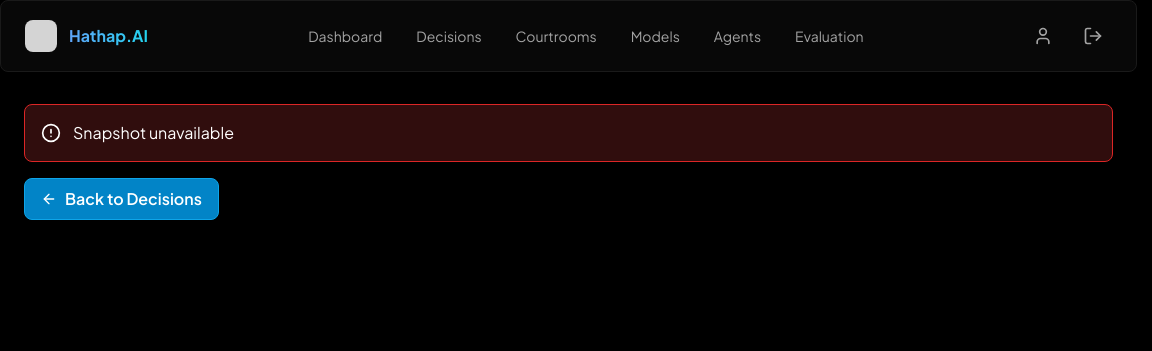
Scenario: App page-flow integration › shows an error state with back navigation when the decision snapshot fails to load
Expected: the text "Snapshot unavailable" is shown, [73,122,234,143]
Click the button "Back to Decisions".
click(121, 199)  # box [24,178,219,220]
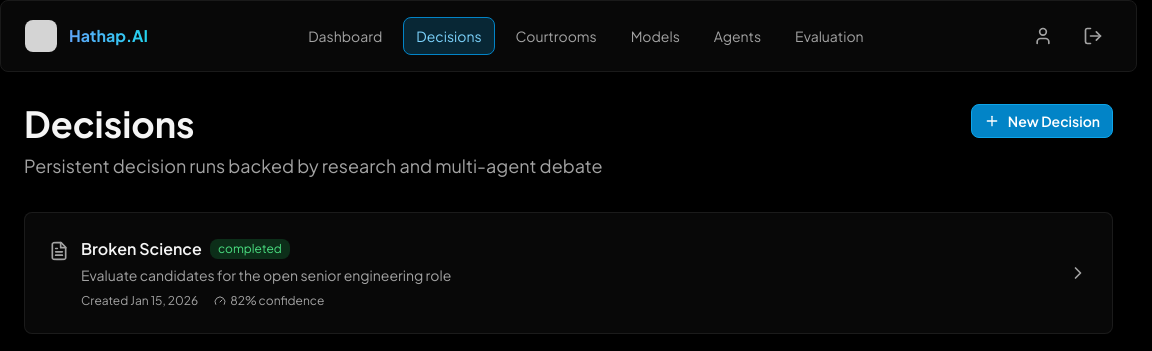
Result: the heading "Broken Science" is shown at [81,237,202,261]
